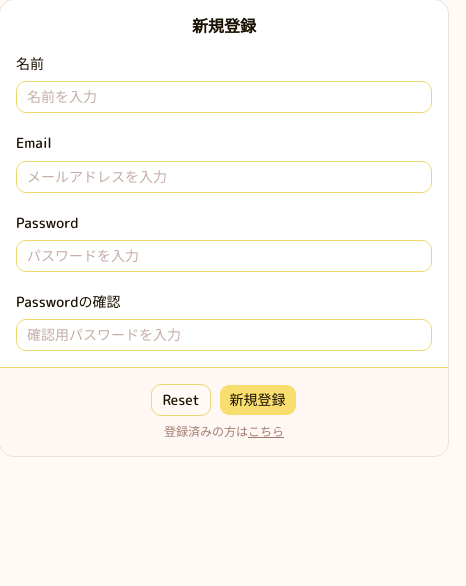
RegisterForm › 空欄で送信するとバリデーションエラーを表示する
The image size is (466, 586).
Click the button "新規登録" at point(258, 400), box [219,384,297,416]
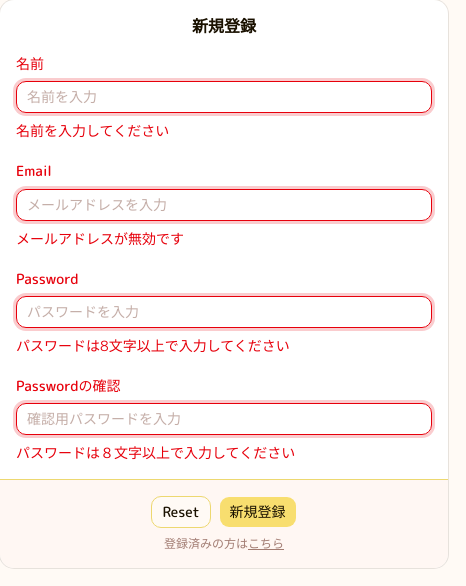
Expected: the text "名前を入力してください" is shown, [16,121,169,140]
